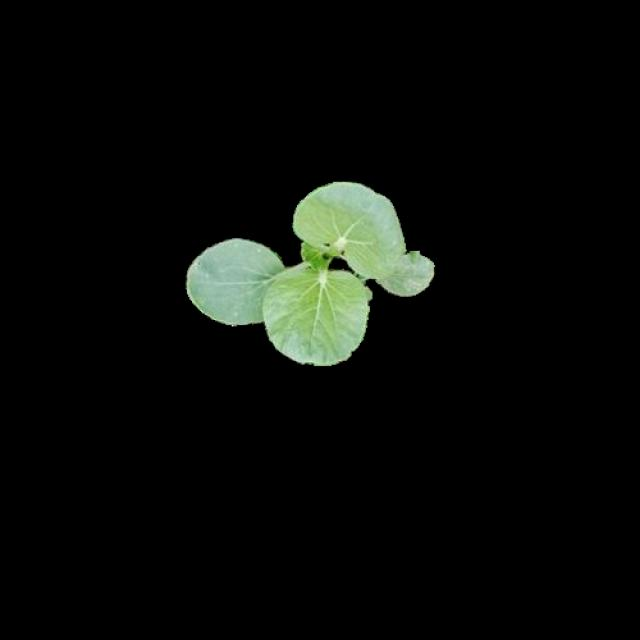not-mature: (183, 180, 440, 368)
unhealthy: (188, 238, 278, 328), (371, 250, 434, 296)
